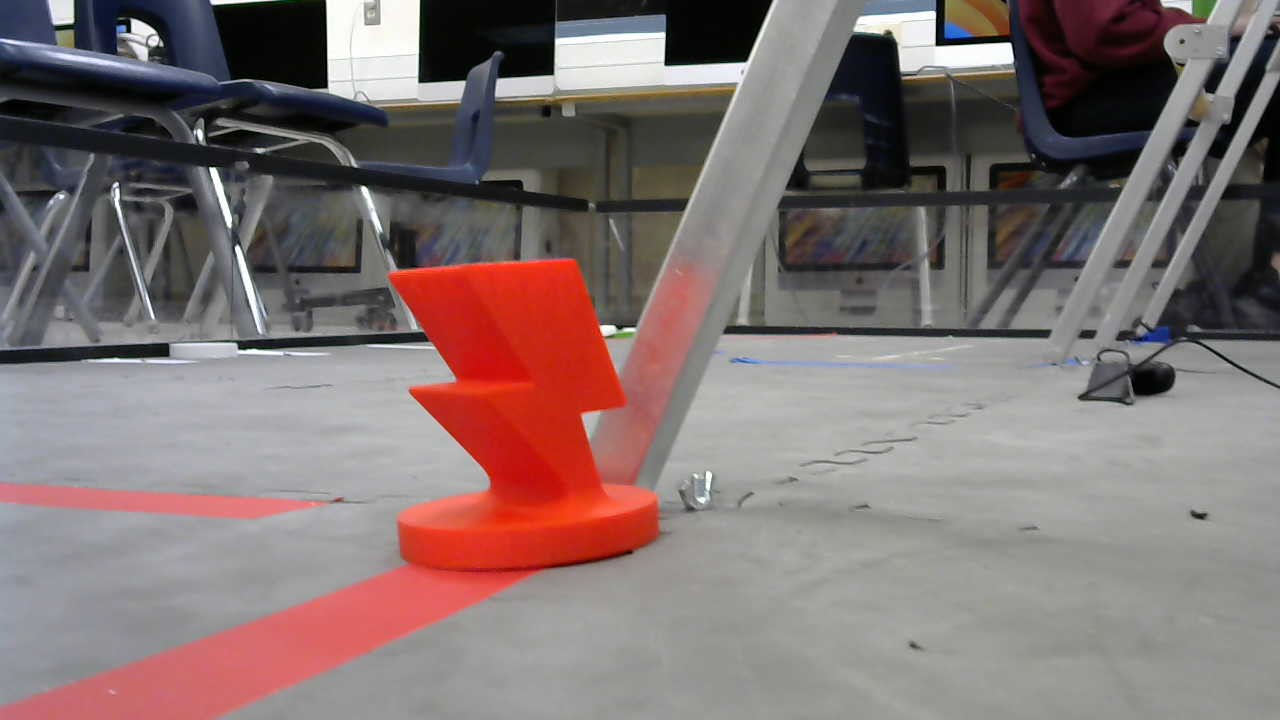redobject: (379, 251, 663, 575)
